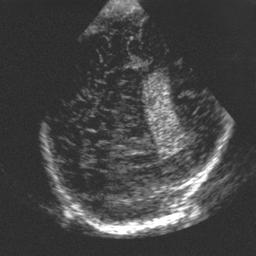abnormal: (43, 51, 232, 238)
